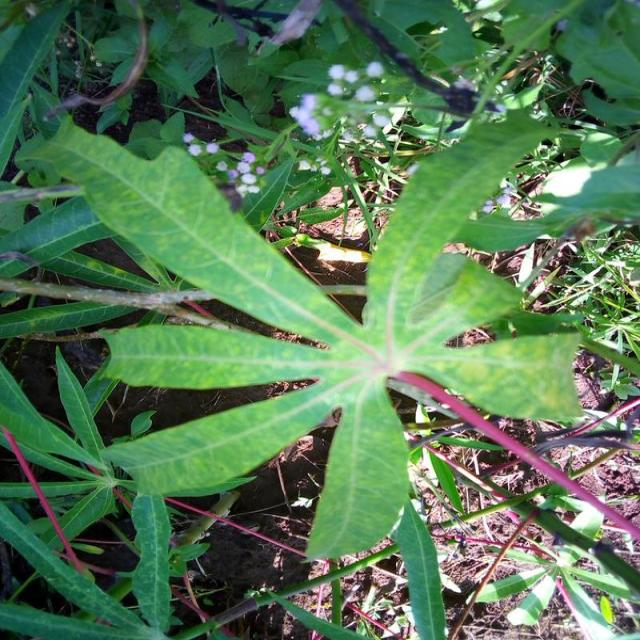cassava leaf: (20, 99, 598, 563)
